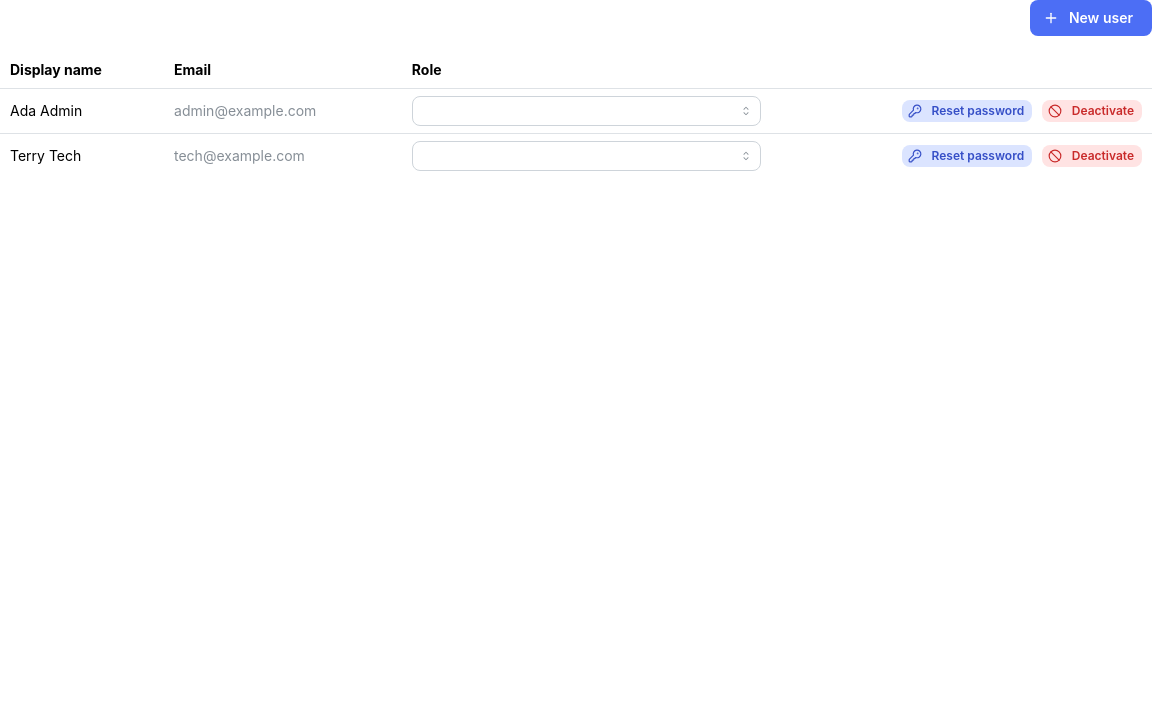
Test: UsersAdmin › creates a user and shows the one-time temp password exactly once
Click the button "New user" at point(1091, 18), box [1030,0,1151,36]
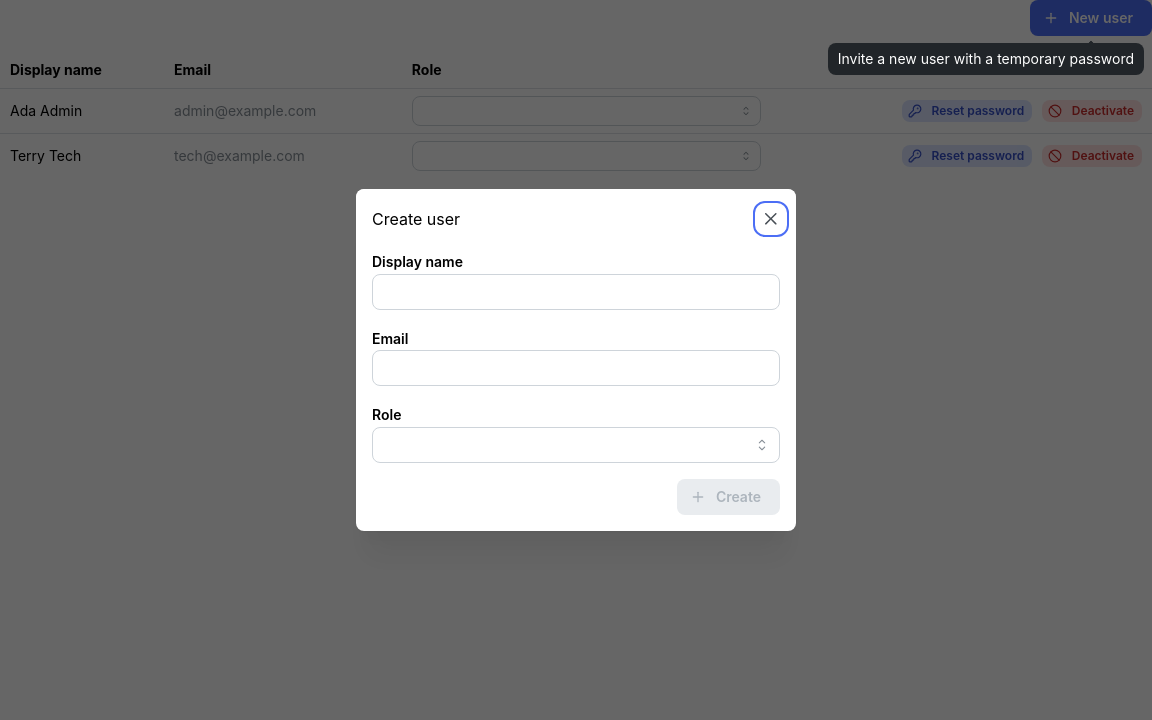
Type "New Person" into the field labelled "Display name" at point(576, 292), box [372,274,780,310]
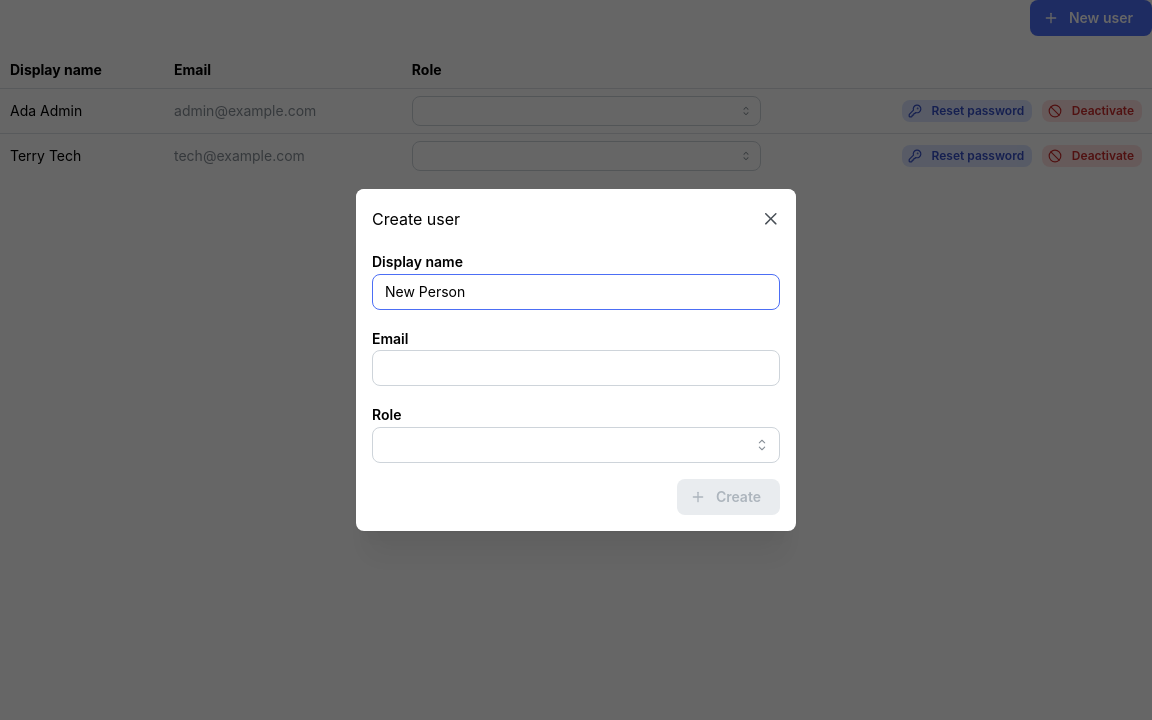
Type "new@example.com" into the field labelled "Email" at point(576, 368), box [372,350,780,386]
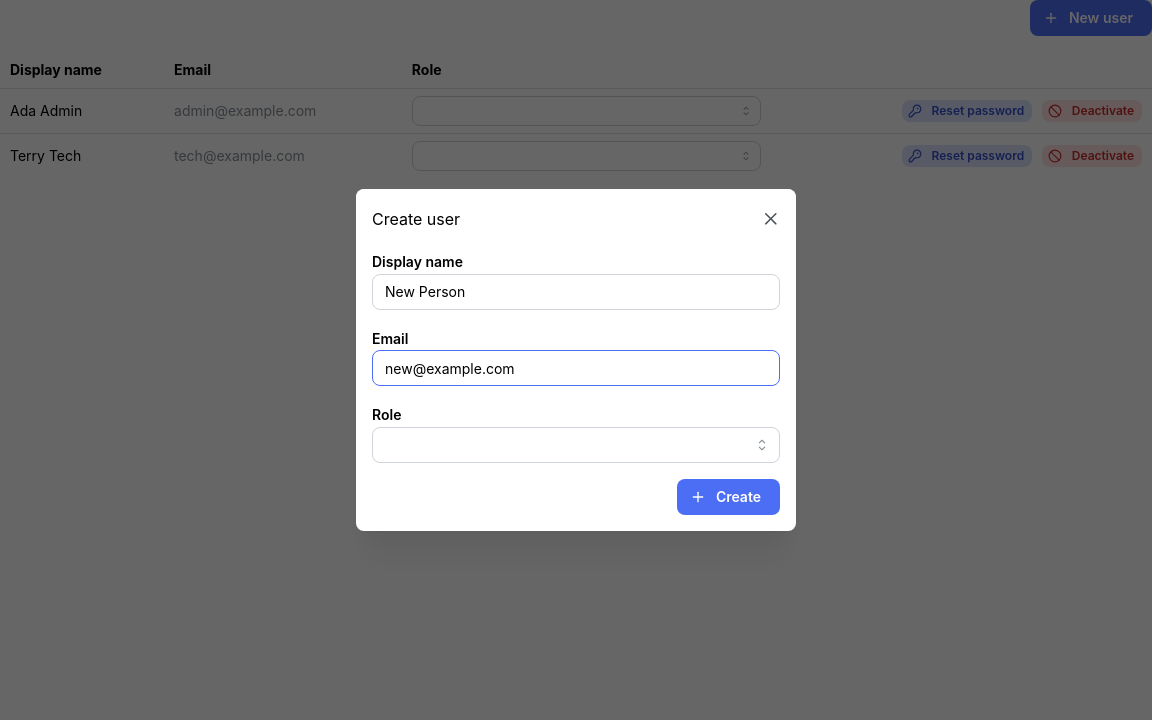
Click the button "Create" at point(728, 497), box [677,479,780,515]
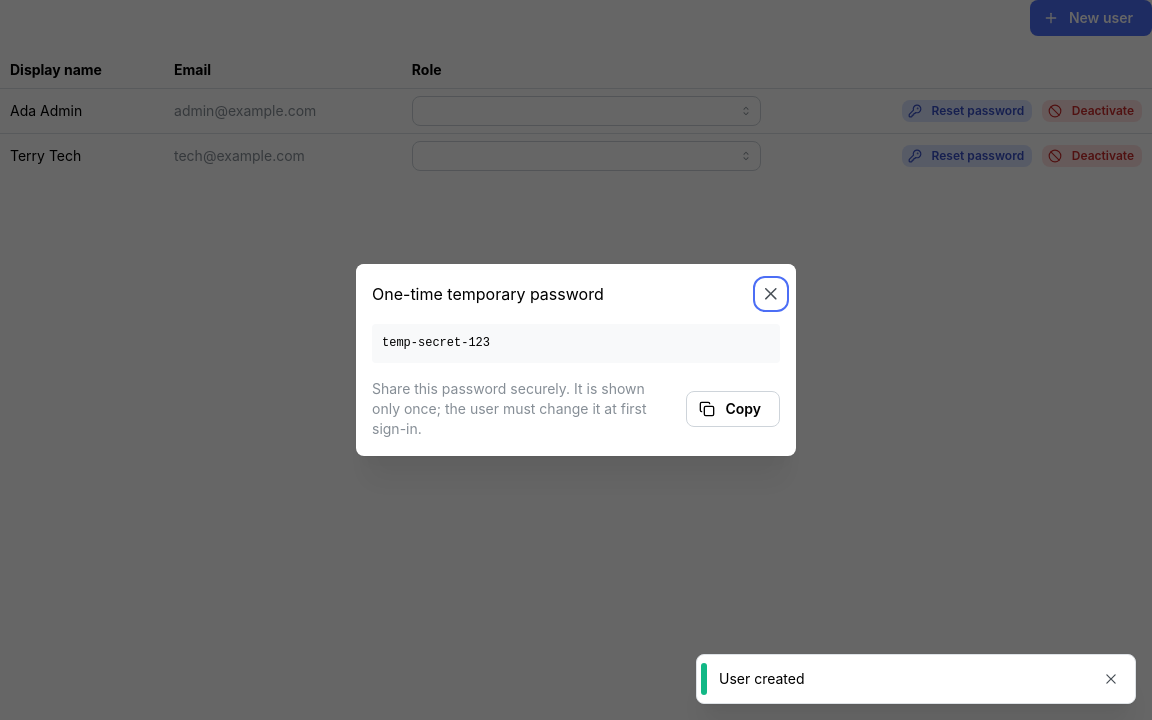
Result: the text "temp-secret-123" is shown at [372,324,780,363]
